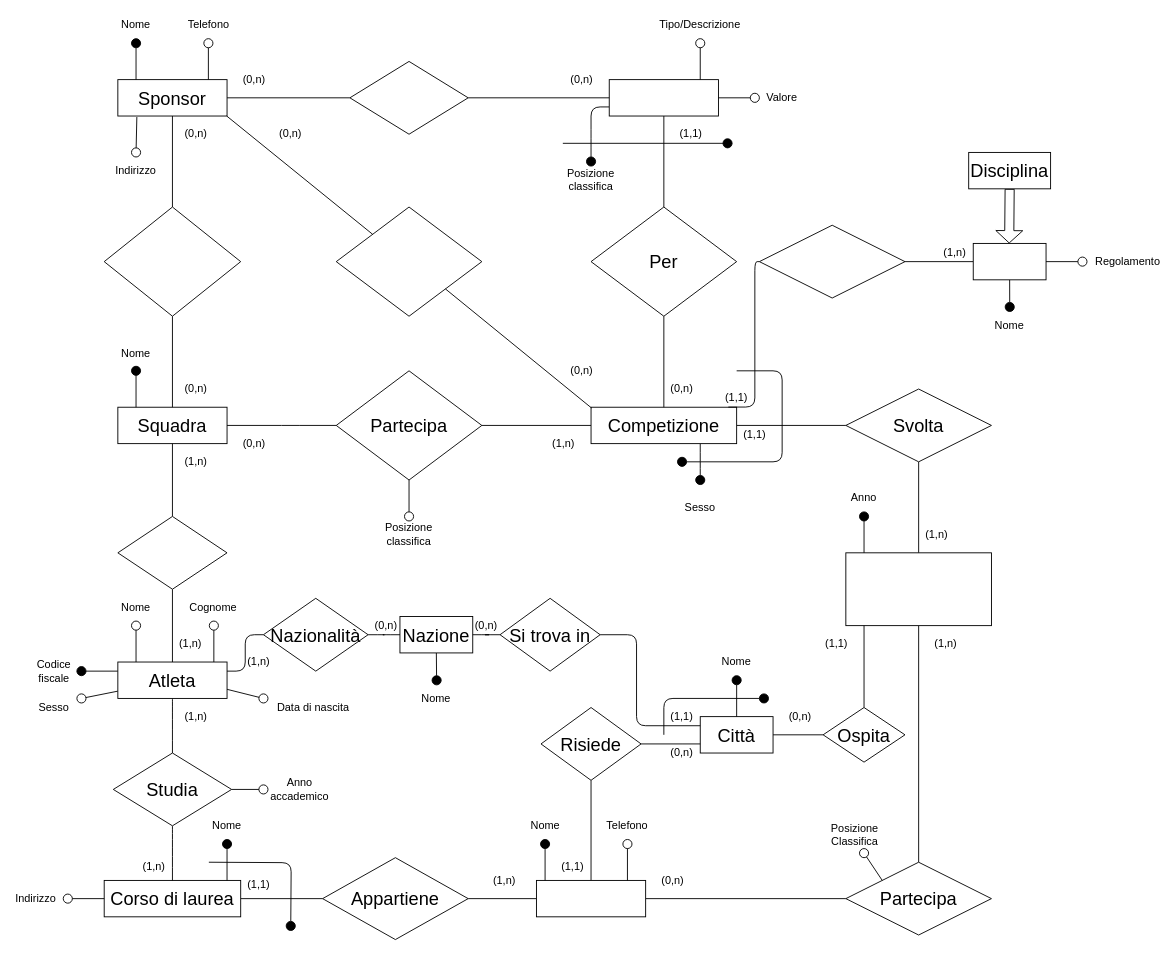
Some shapes in this 1176 by 956 pixel diagram are drawn without their labels. Each missing label, with the centre of its shape:
Fa Parte: [172,552]
Finanzia: [408,261]
Fornisce: [408,97]
Olimpiade universitaria: [918,589]
Premio: [663,97]
Sponsorizza: [172,261]
Sport: [1009,261]
Tipo: [831,261]
Università: [591,898]
